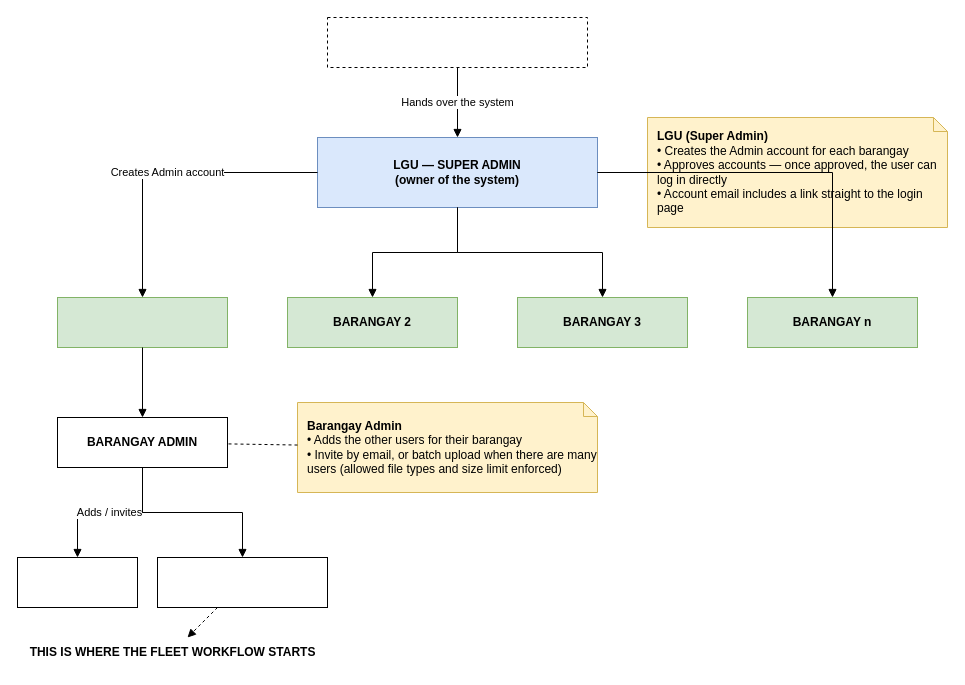
The diagram is 965 pixels wide and 685 high, and some of its shapes have lost their labels. Here are the shapes that lost their labels. From the top down, the centre of each, then its label:
At pixel 457 42: "DEVELOPERS (maintain the system)".
At pixel 142 322: "BARANGAY 1".
At pixel 77 582: "CUSTODIAN".
At pixel 242 582: "MAINTENANCE PERSONNEL".
